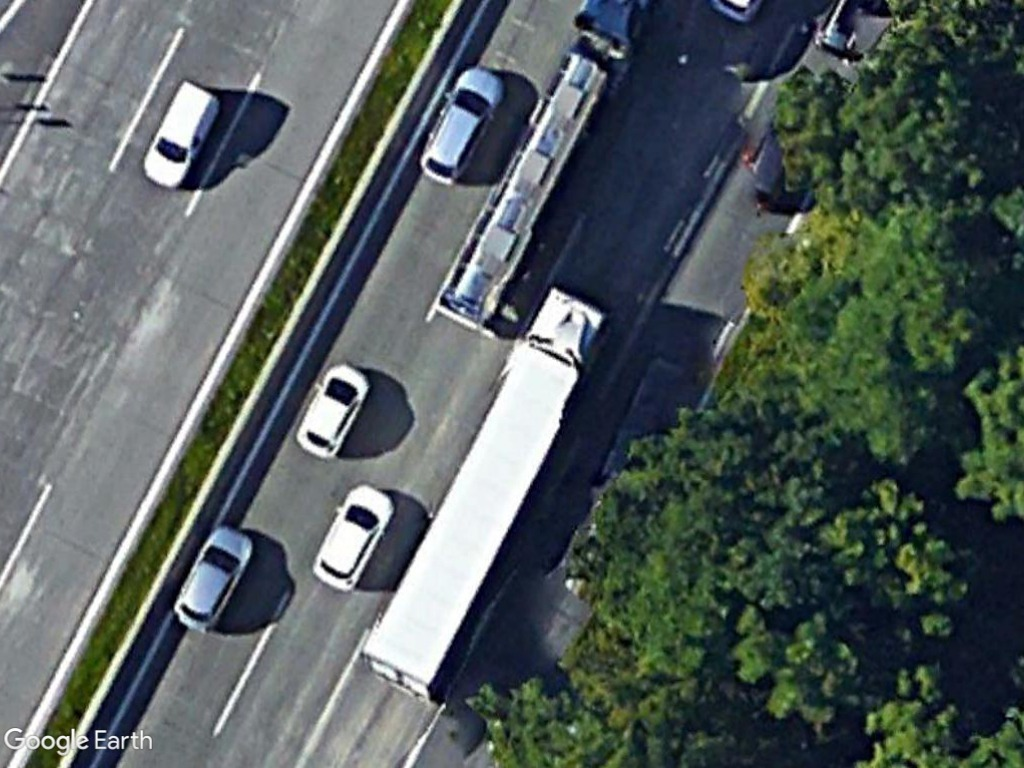car: (416, 61, 514, 188), (167, 518, 257, 636), (311, 480, 398, 597), (290, 356, 372, 464)
longvehicle: (357, 280, 610, 706)
van: (137, 73, 217, 192)
